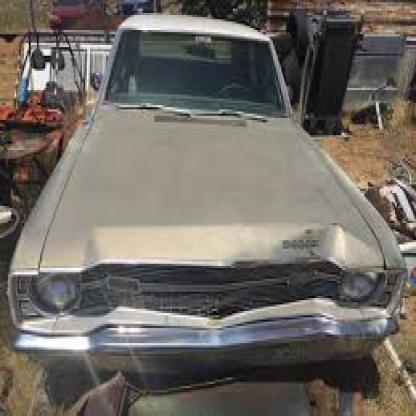dent: (324, 219, 370, 259)
